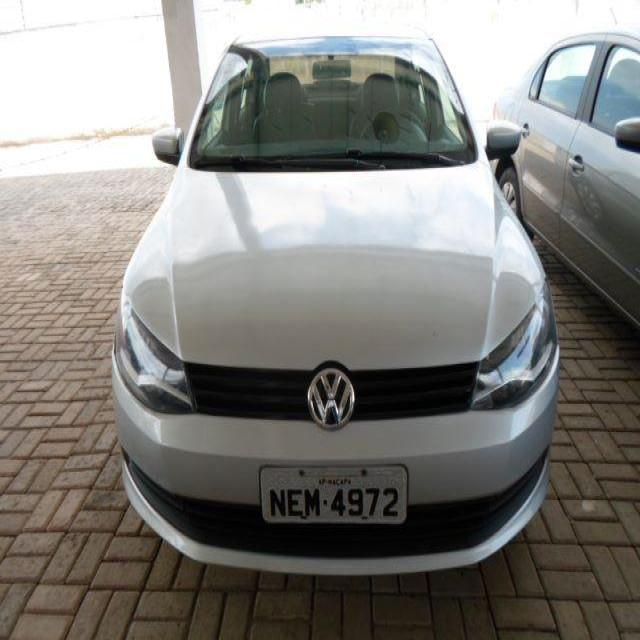Placa: (254, 457, 411, 531)
